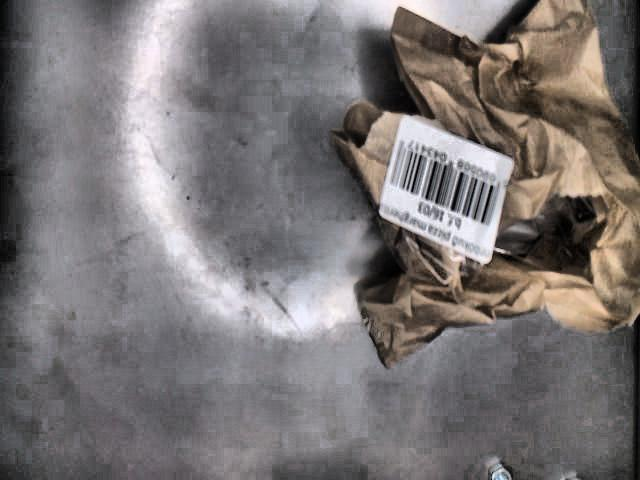Paper: (332, 0, 640, 370)
